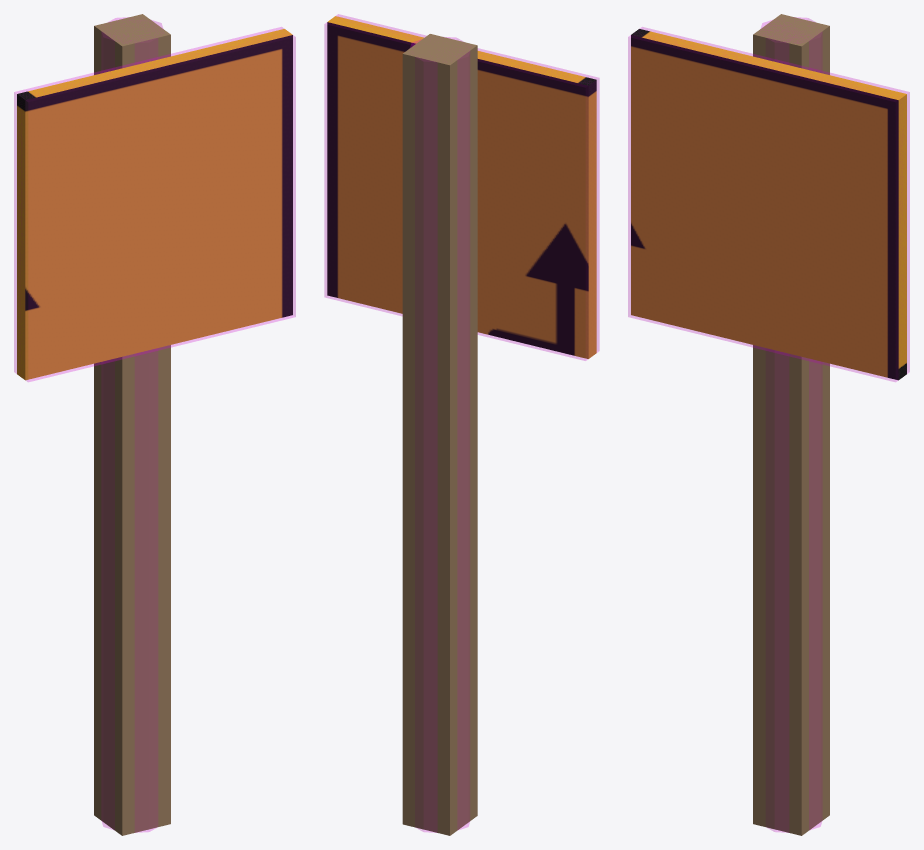
File: arrow_turn_left.dae
3 views of the same model, side by side, from view 1: azimuth 30°, elevation 25°; view 2: azimuth 150°, elevation 25°; view 3: azimuth 330°, elevation 25° (orthographic). The views are drawn at different scales.
Parts seen in each view (by area): view 1: sign, Colmesh_sign-1, post, Colmesh_post-1; view 2: post, sign, Colmesh_sign-1, Colmesh_post-1; view 3: sign, Colmesh_sign-1, post, Colmesh_post-1.
Boxes of the visible parts, box(x1,y1,x2,y2) form: sign: box(17, 29, 292, 380); Colmesh_sign-1: box(14, 27, 295, 381); post: box(94, 14, 170, 835); Colmesh_post-1: box(102, 17, 162, 832); post: box(402, 34, 477, 835); sign: box(327, 16, 596, 358); Colmesh_sign-1: box(324, 14, 599, 360); Colmesh_post-1: box(410, 37, 469, 832); sign: box(631, 29, 906, 380); Colmesh_sign-1: box(628, 27, 909, 381); post: box(753, 14, 829, 835); Colmesh_post-1: box(761, 17, 821, 832).
Size of the model in its own units: 0.55 by 0.165 by 1.55.
3 materials, 1 textured.
